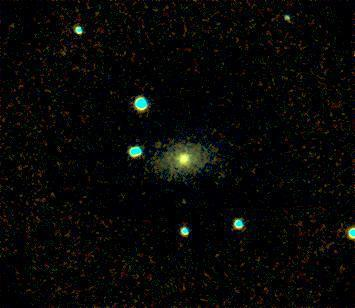star: (275, 5, 305, 35)
